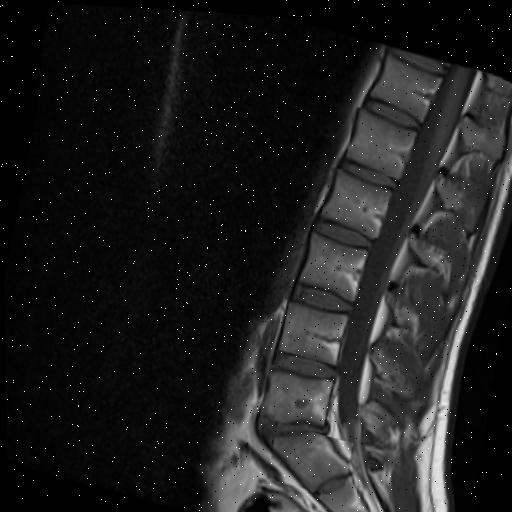L1: (345, 104, 415, 174)
L2: (320, 166, 389, 233)
L3: (298, 229, 366, 296)
L4: (278, 299, 344, 361)
L5: (258, 370, 331, 422)
S1: (270, 428, 346, 488)
